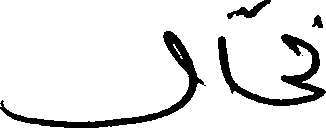ا: (217, 9, 233, 95)
ح: (265, 74, 325, 111)
ل: (0, 29, 198, 127)
ن: (279, 13, 324, 62)
